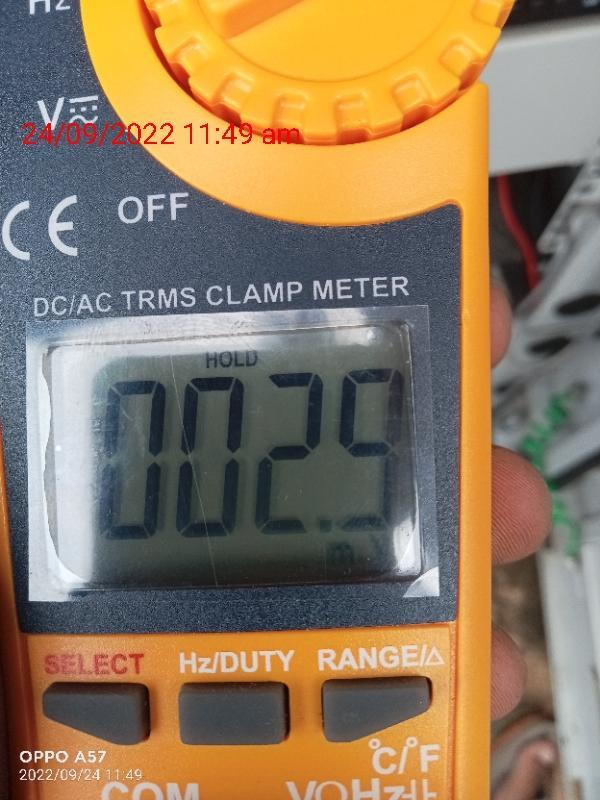ClampMeter_Display: (38, 327, 423, 588)
